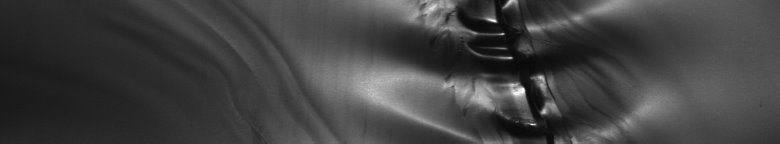ke: (393, 4, 631, 136)
